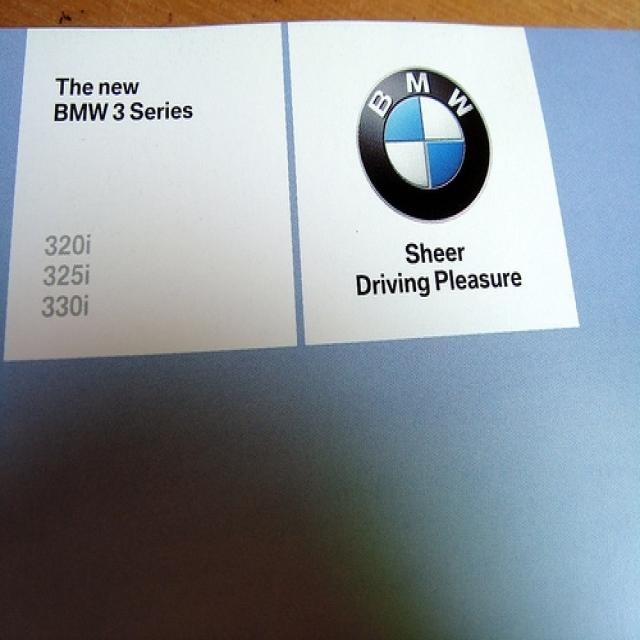bmw: (353, 63, 495, 232)
